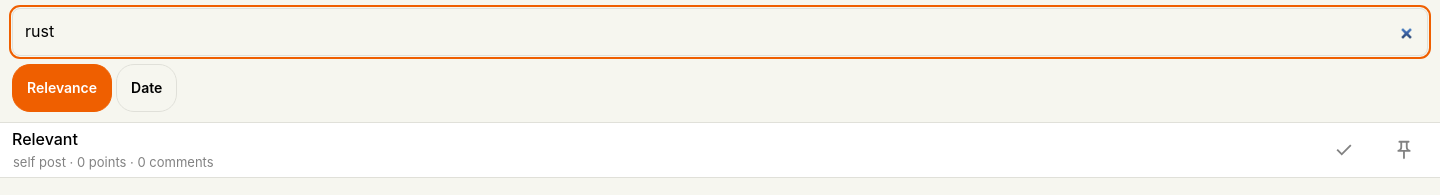
<SearchPage> › switches endpoint when the Date sort is selected
The width and height of the screenshot is (1440, 195).
Expected: the text "Relevant" is shown, [12,129,78,149]
Step 1. Click the button with test id "sort-date" → coordinates (147, 88), box [116,64,177,112]
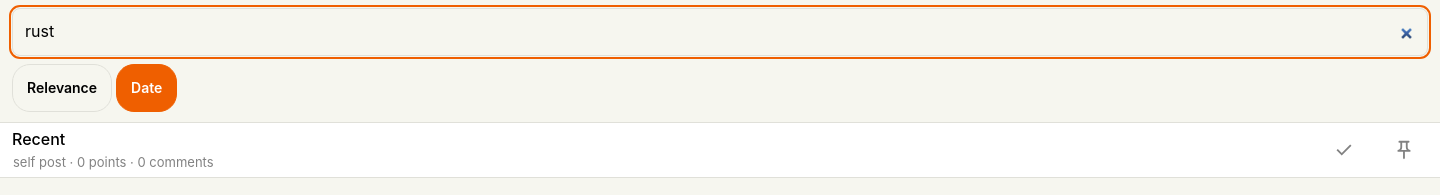
Expected: the text "Recent" is shown, [12,129,65,149]
